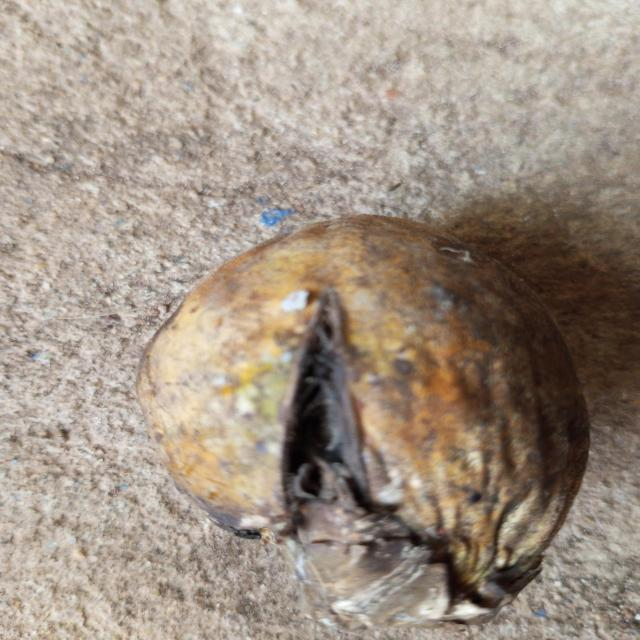damaged: (135, 216, 590, 627)
